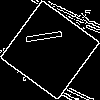I: (25, 25, 72, 47)
